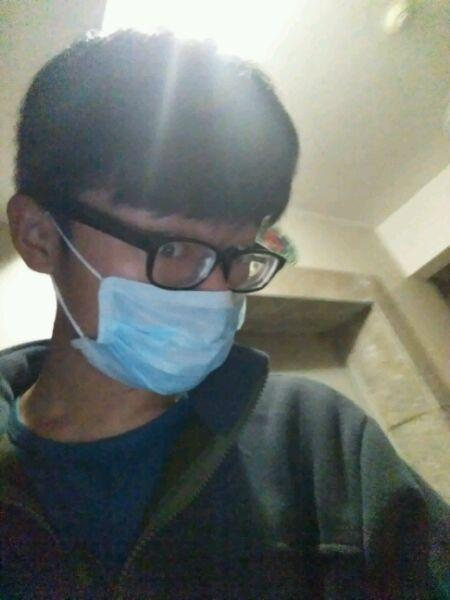OK: (70, 189, 248, 392)
